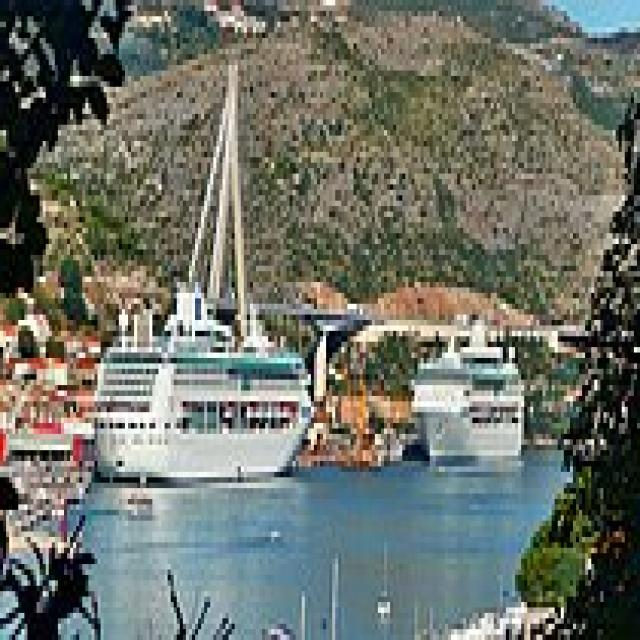Cruise: (95, 282, 323, 483), (412, 304, 530, 472)
